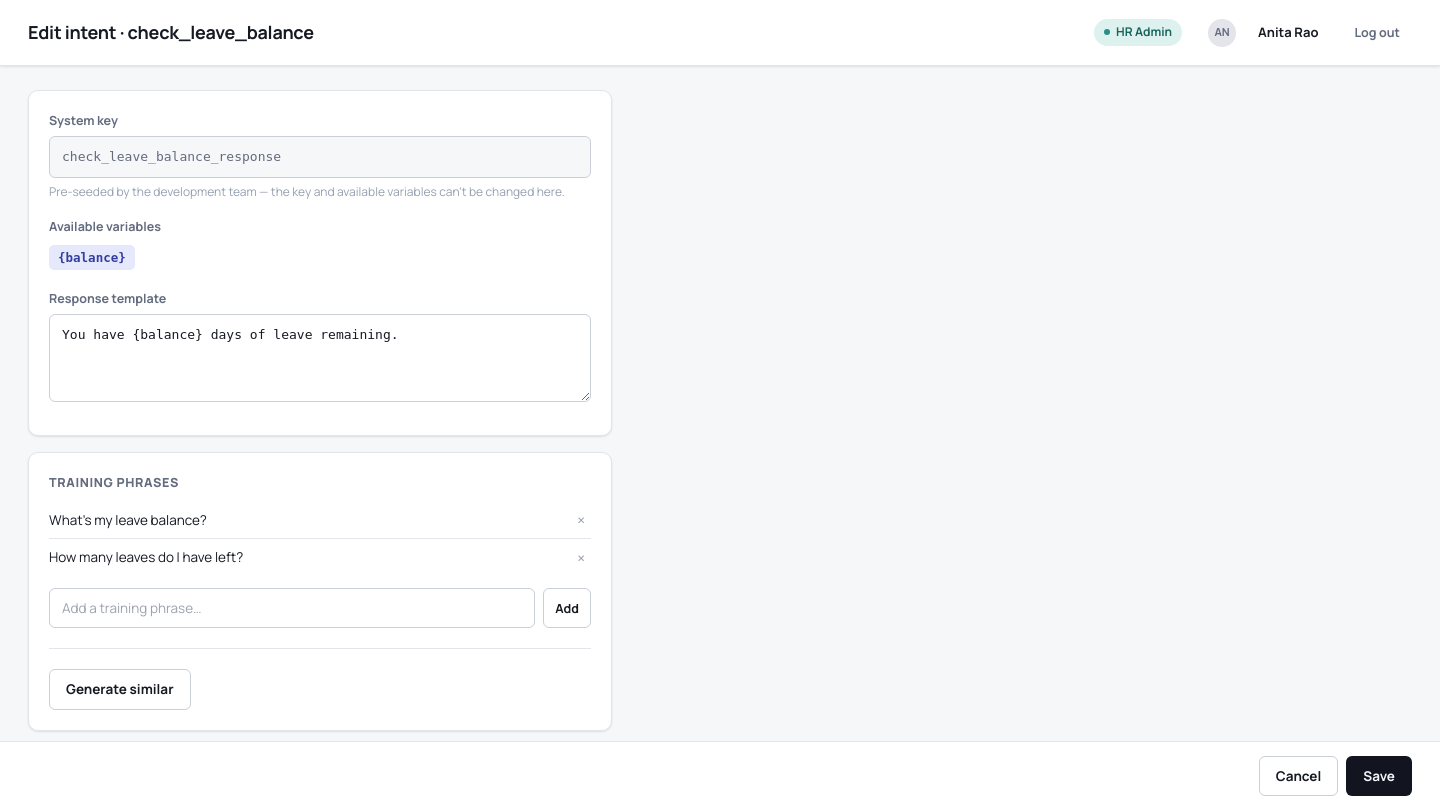
Scenario: Rephraser UI — Generate Similar review flow › supports Accept All to accept all remaining suggestions
The width and height of the screenshot is (1440, 810).
Expected: the field named "System key" is shown, [49,136,591,178]
What coordinates should you click on to do the following:
click the button "Generate similar"
I would click on:
 (120, 690)
Its box is [49,669,190,710].
(page scrolled)
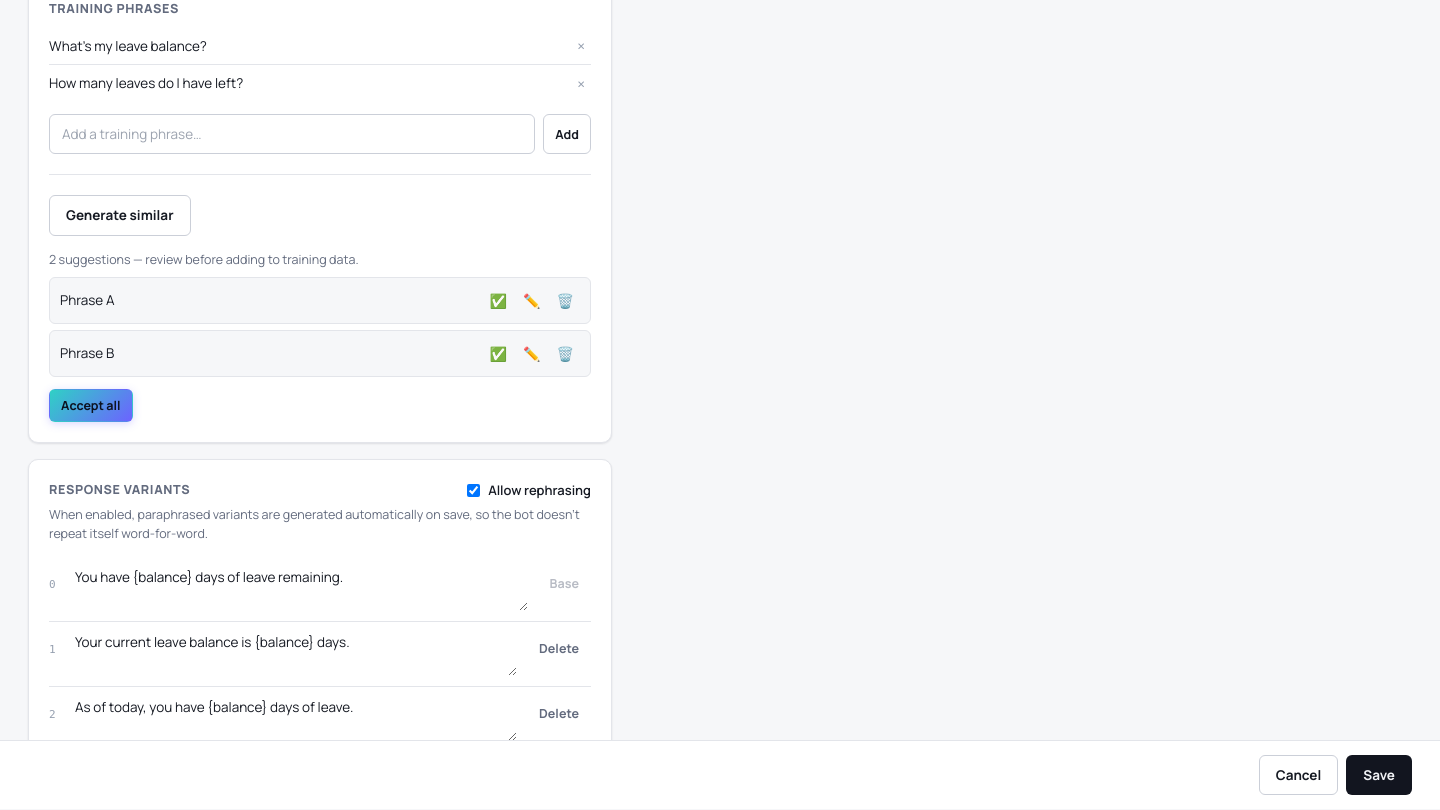
Result: the text "Phrase A" is shown at [60,290,114,311]
What coordinates should you click on to do the following:
click the button "Accept all"
I would click on:
 (91, 406)
Its box is [49,389,133,422].
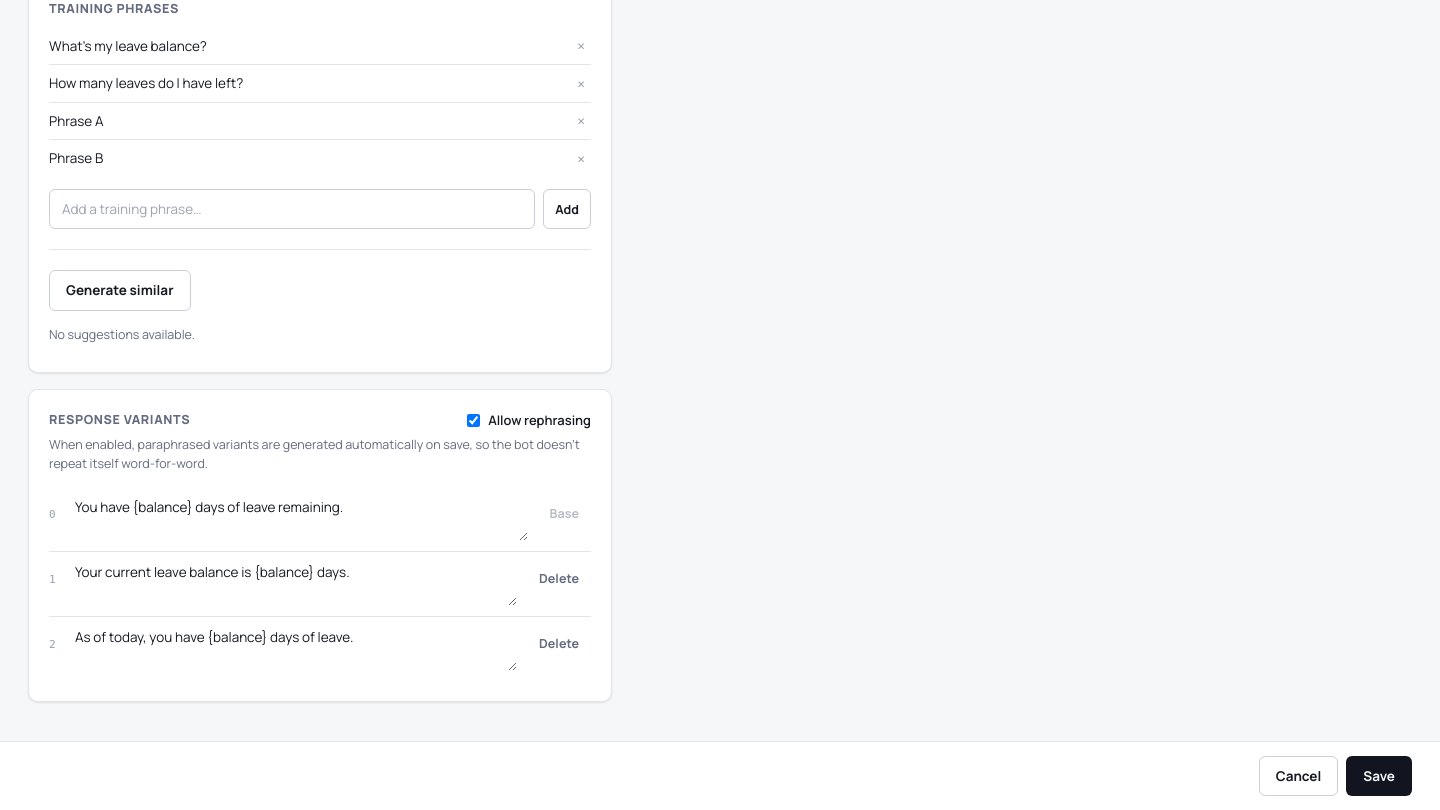
Result: the text "Phrase A" is shown at [49,111,104,131]
Result: the text "Phrase B" is shown at [49,148,103,169]
Result: the button "Accept all" is gone
